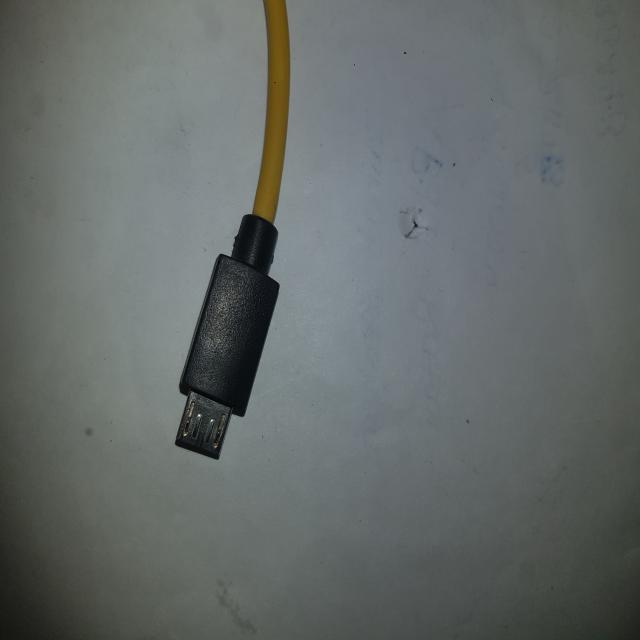electronic: (152, 4, 351, 509)
